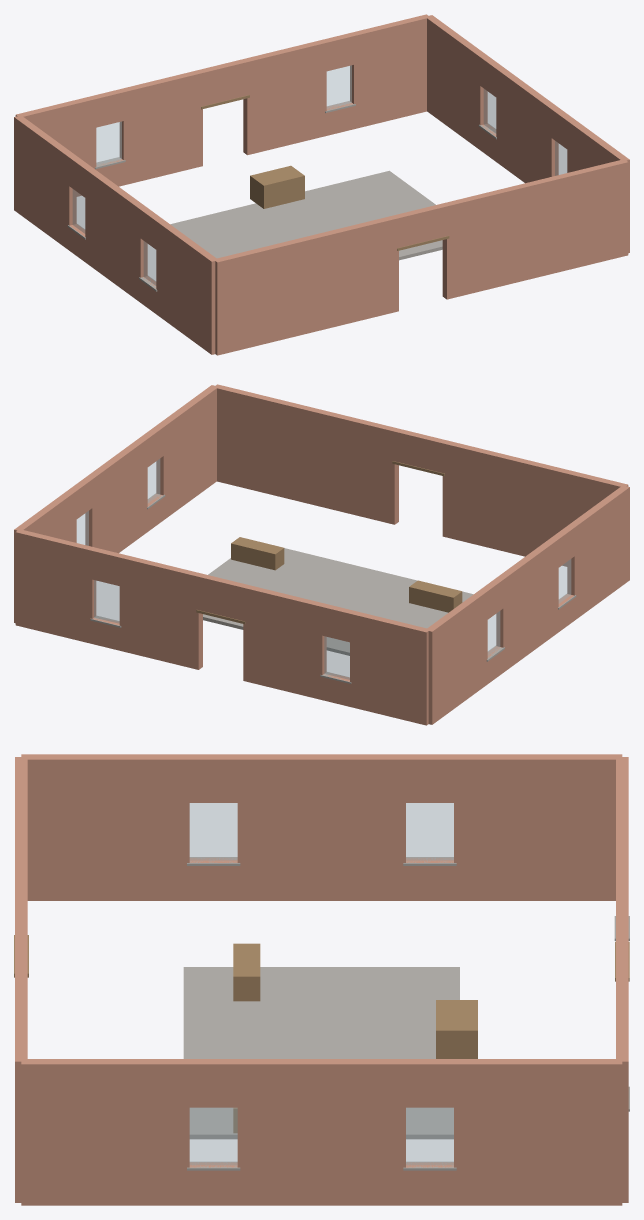
Rendered from collision_proxy.glb.
3 views of the same model, one above another, from view 1: azimuth 30°, elevation 25°; view 2: azimuth 150°, elevation 25°; view 3: azimuth 270°, elevation 25° (orthographic). The views are drawn at different scales.
Parts seen in each view (by area): view 1: wall_2, wall_0, wall_3, wall_1, floor_slab, bbox_stone_altar_30, window_glass_20, window_glass_21; view 2: wall_0, wall_2, wall_3, wall_1, floor_slab, bbox_cloister_bench_32, bbox_cloister_bench_31, window_glass_20, window_glass_21; view 3: wall_1, wall_3, floor_slab, wall_0, wall_2, window_glass_24, window_glass_25, window_glass_22, window_glass_23, bbox_stone_altar_30, bbox_cloister_bench_31.
Boxes of the visible parts, x1=… form: wall_2: x1=214, y1=160, x2=628, y2=355; wall_0: x1=15, y1=14, x2=429, y2=196; wall_3: x1=14, y1=115, x2=218, y2=354; wall_1: x1=425, y1=15, x2=629, y2=253; floor_slab: x1=170, y1=170, x2=442, y2=260; bbox_stone_altar_30: x1=250, y1=165, x2=304, y2=208; window_glass_20: x1=96, y1=121, x2=121, y2=164; window_glass_21: x1=327, y1=65, x2=351, y2=108; wall_0: x1=15, y1=530, x2=430, y2=725; wall_2: x1=215, y1=384, x2=628, y2=566; wall_3: x1=427, y1=485, x2=629, y2=724; wall_1: x1=14, y1=385, x2=218, y2=623; floor_slab: x1=203, y1=548, x2=473, y2=655; bbox_cloister_bench_32: x1=231, y1=537, x2=284, y2=570; bbox_cloister_bench_31: x1=409, y1=580, x2=462, y2=612; window_glass_20: x1=324, y1=636, x2=349, y2=679; window_glass_21: x1=94, y1=580, x2=119, y2=623; wall_1: x1=21, y1=1059, x2=622, y2=1205; wall_3: x1=21, y1=754, x2=622, y2=900; floor_slab: x1=183, y1=967, x2=459, y2=1139; wall_0: x1=616, y1=757, x2=628, y2=1202; wall_2: x1=15, y1=757, x2=27, y2=1202; window_glass_24: x1=190, y1=803, x2=237, y2=860; window_glass_25: x1=406, y1=803, x2=453, y2=860; window_glass_22: x1=406, y1=1108, x2=453, y2=1164; window_glass_23: x1=190, y1=1108, x2=237, y2=1164; bbox_stone_altar_30: x1=436, y1=1000, x2=477, y2=1058; bbox_cloister_bench_31: x1=233, y1=943, x2=260, y2=1001.
Bounding box in the file's own units: 24.51 × 5.38 × 20.5.
